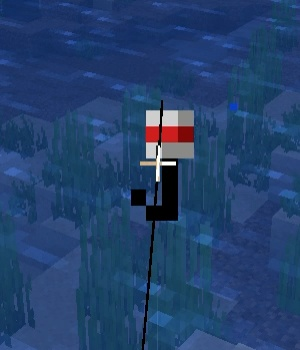up: (136, 95, 192, 221)
